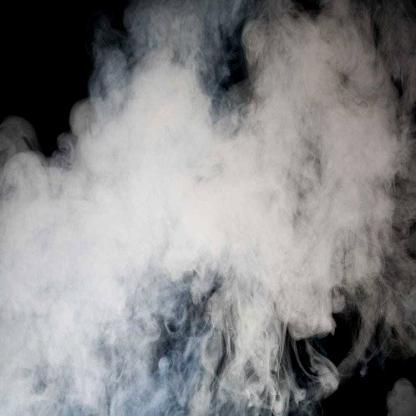smoke: (0, 2, 415, 416)
